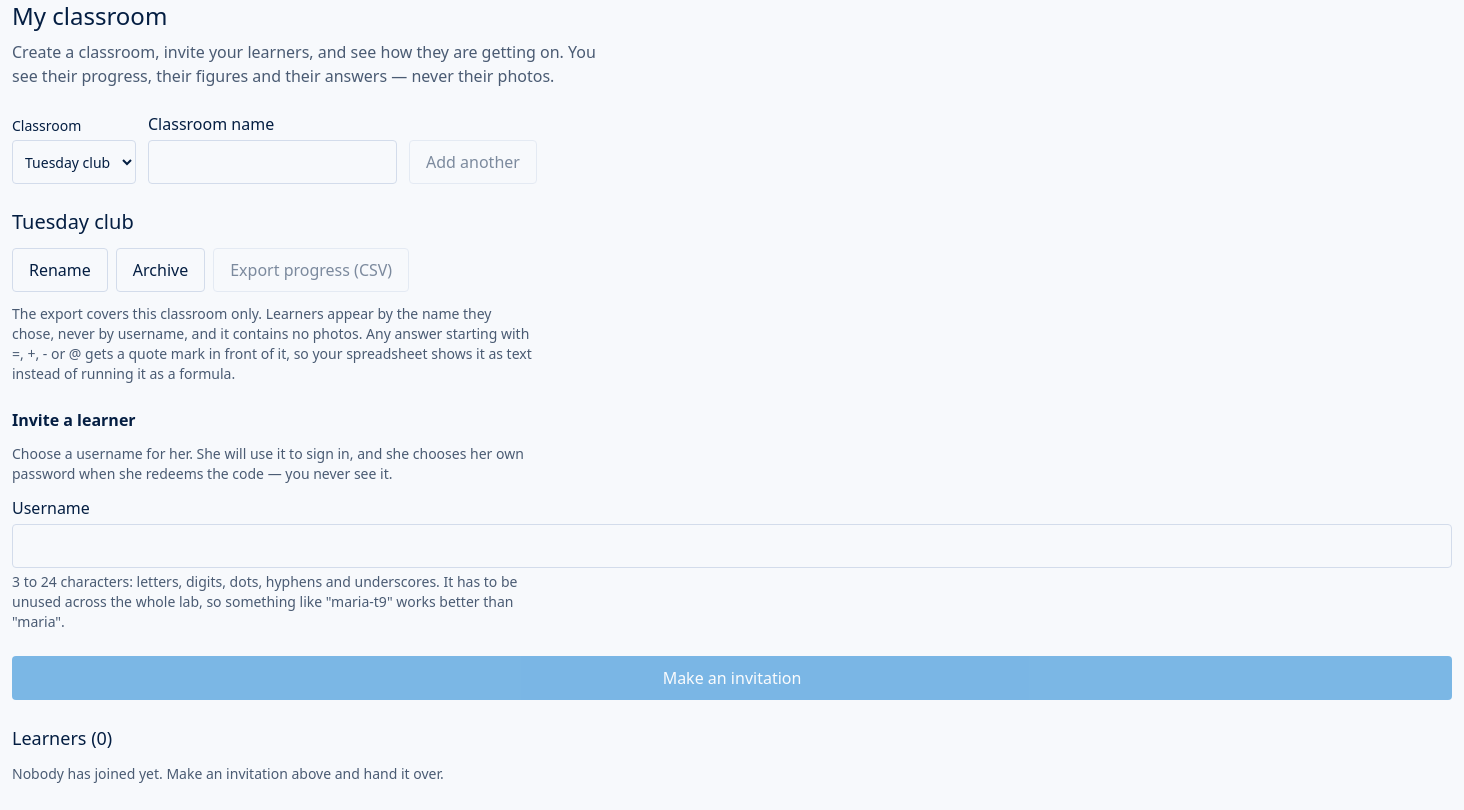
Test case: issuing an invitation (FR-026, FR-028, Scenario 6.2) › shows the username and the code together, and says it is the only time
Expected: the heading "My classroom" is shown, [12,0,167,32]
Step 1. Type "zz-issued-username" into the field labelled "Username" → coordinates (732, 546), box [12,524,1452,568]
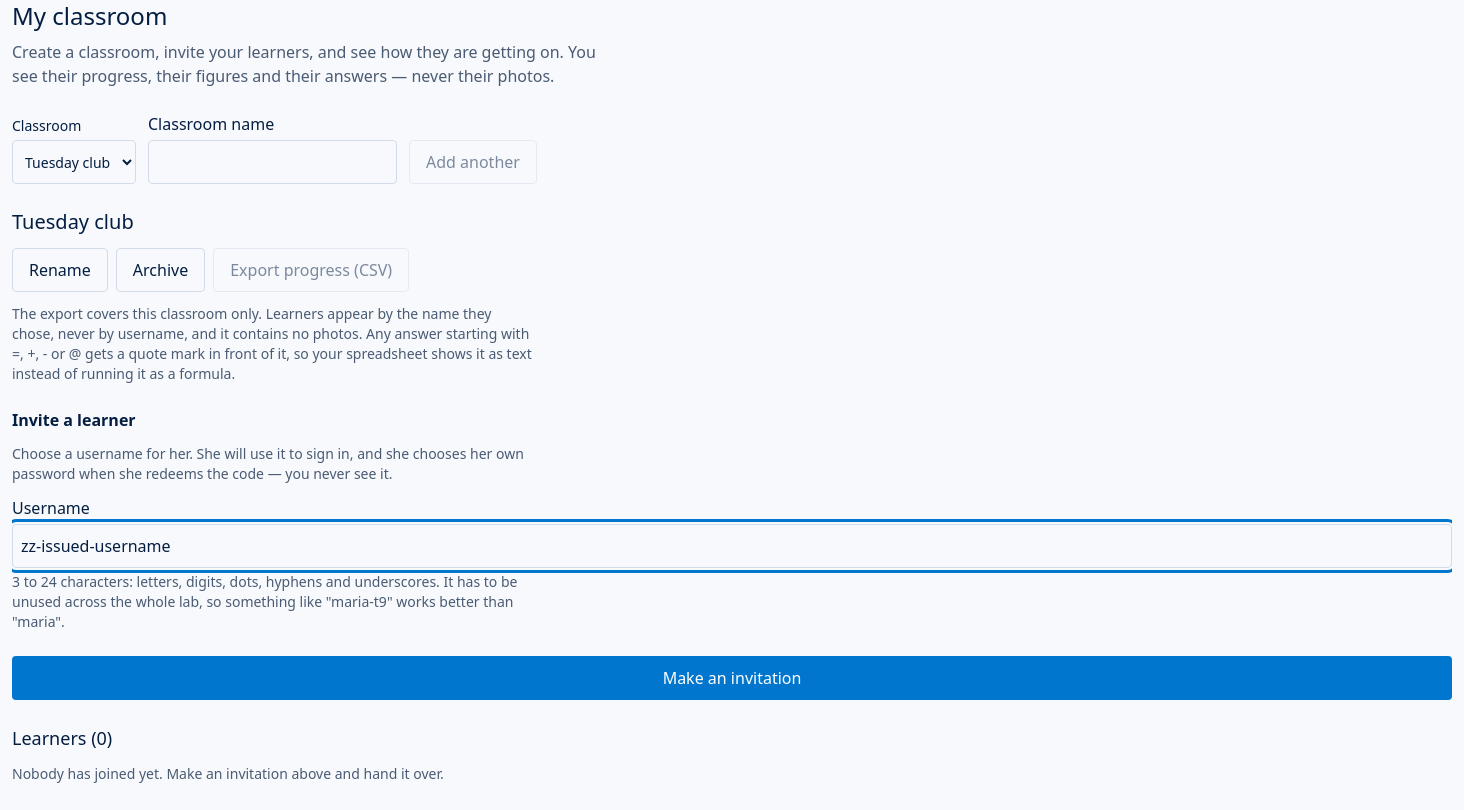
Step 2. Click the button "Make an invitation" → coordinates (732, 678), box [12,656,1452,700]
(page scrolled)
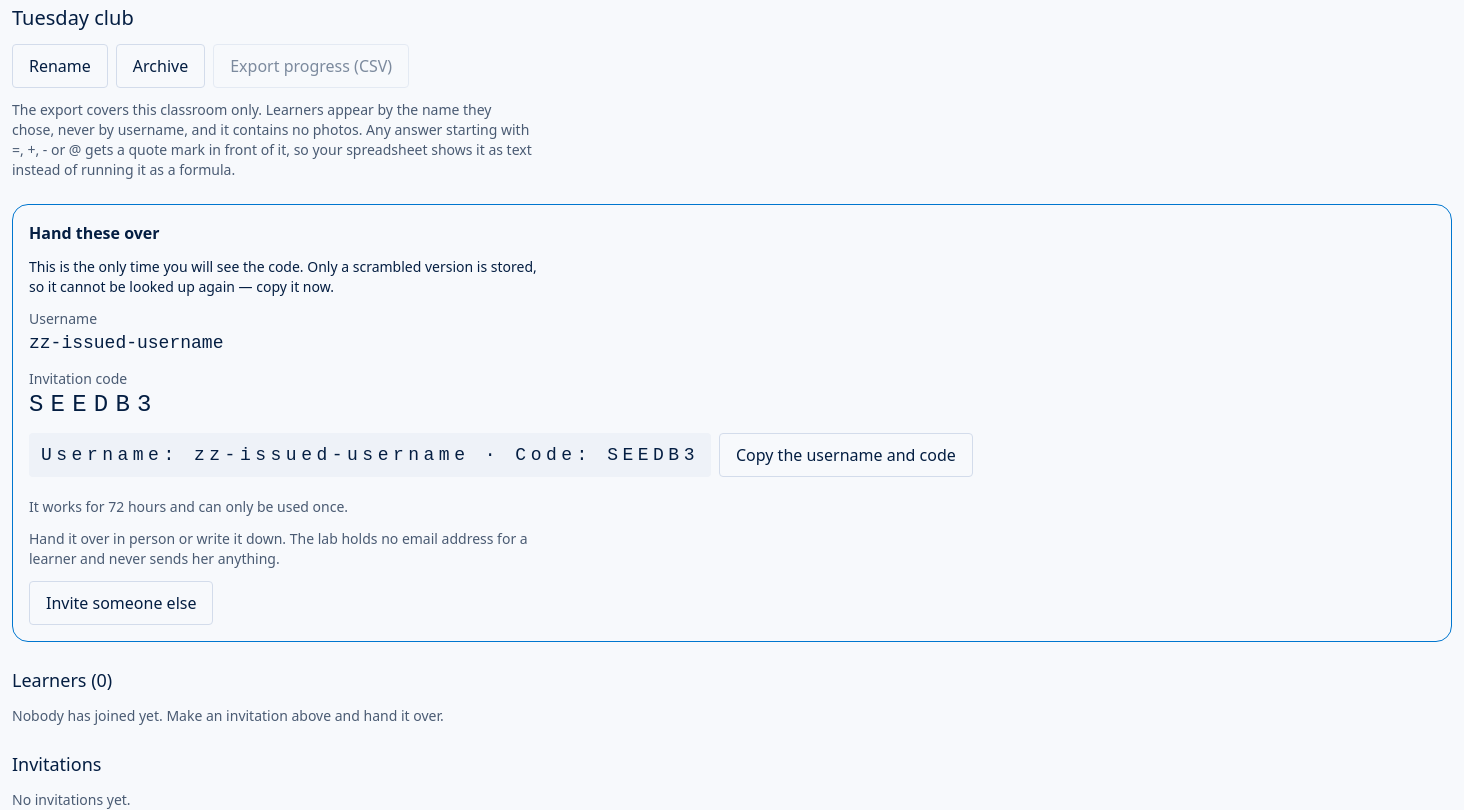
Now the text with test id "issued-username" reads "zz-issued-username", box [29,333,223,353]
Now the text with test id "issued-code" reads "SEEDB3", box [29,391,159,418]
Now the element with test id "invitation-issued" shows "only time you will see the code", box [29,257,537,296]
